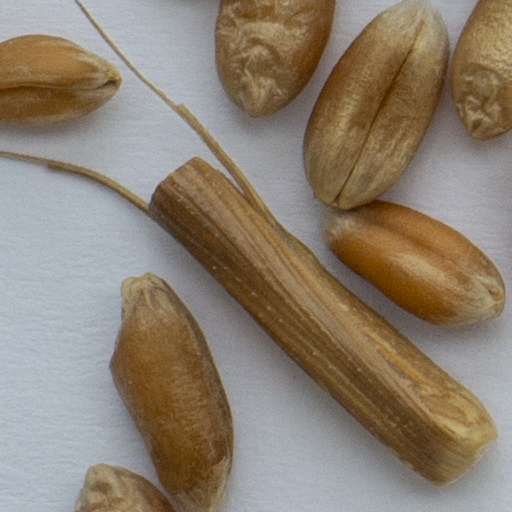Peel-poly: (0, 0, 496, 488)
